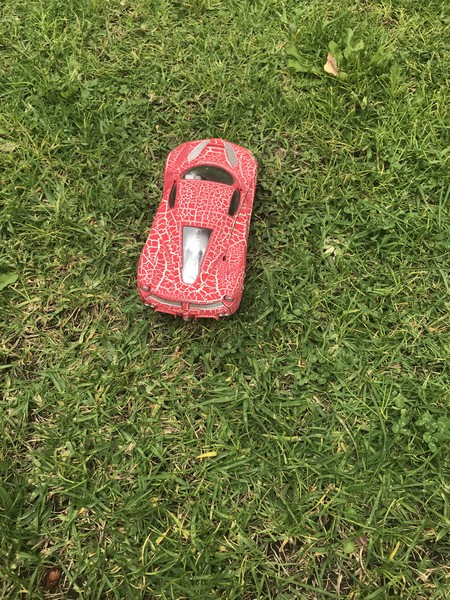RC: (134, 135, 259, 323)
